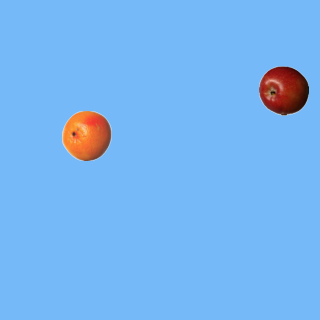Apple Braeburn: (258, 65, 308, 115)
Grapefruit Pink: (61, 110, 111, 160)
